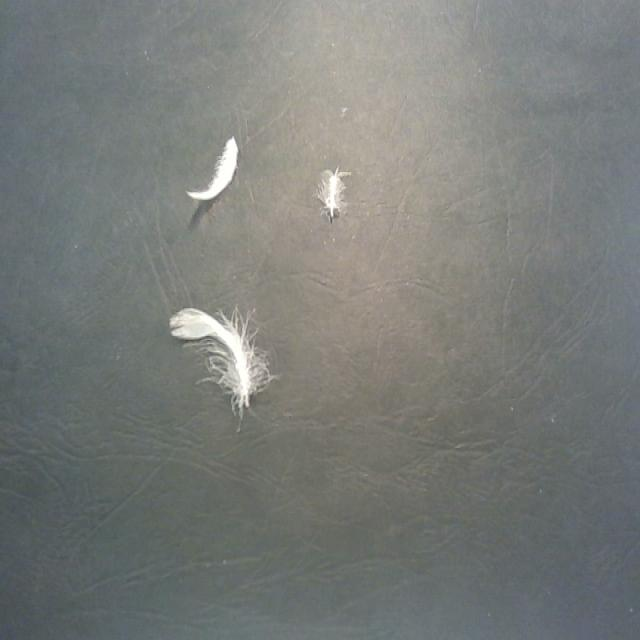feather: (168, 297, 268, 415), (188, 130, 243, 202), (321, 160, 352, 220)
